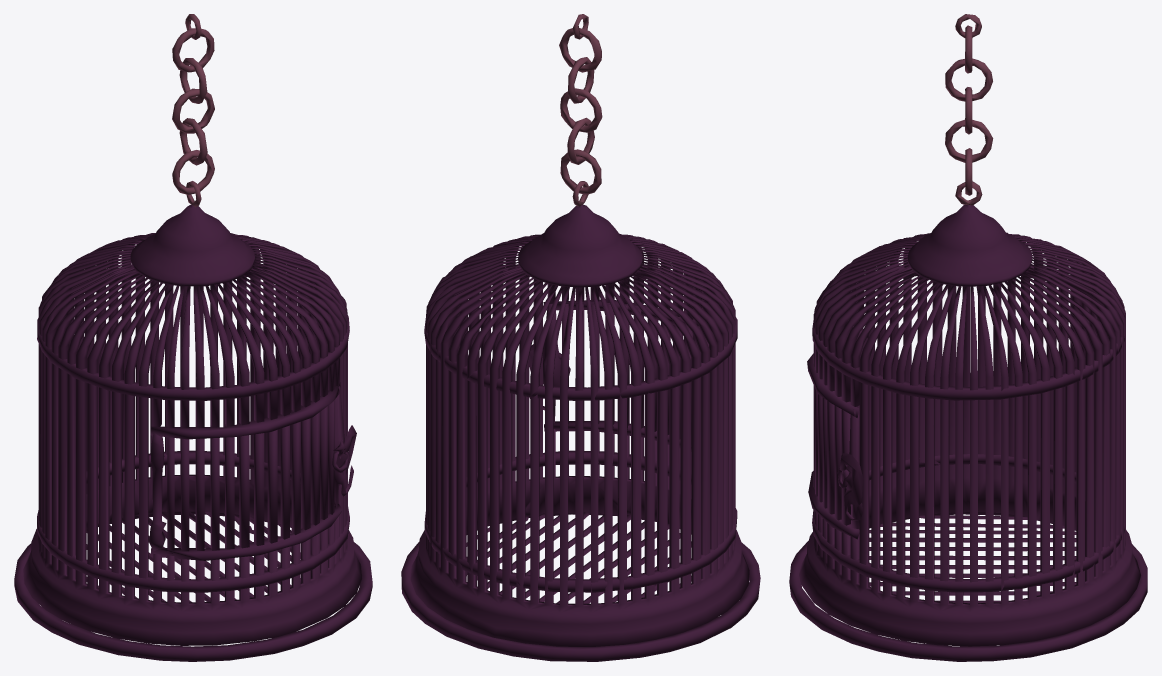
File: birdcage2.fbx
The picture shows the model from 3 angles, left to right: view 1: azimuth 30°, elevation 25°; view 2: azimuth 150°, elevation 25°; view 3: azimuth 270°, elevation 25°; orthographic projection.
Visible parts, largest first — view 1: BirdcageBase, Birdcagedoor, Birdcagechain; view 2: BirdcageBase, Birdcagedoor, Birdcagechain; view 3: BirdcageBase, Birdcagedoor, Birdcagechain.
Part boxes in pixels (x1=…): BirdcageBase: x1=14, y1=204, x2=372, y2=661; Birdcagedoor: x1=149, y1=382, x2=356, y2=560; Birdcagechain: x1=172, y1=14, x2=214, y2=207; BirdcageBase: x1=401, y1=204, x2=760, y2=661; Birdcagedoor: x1=529, y1=299, x2=708, y2=451; Birdcagechain: x1=559, y1=14, x2=602, y2=206; BirdcageBase: x1=789, y1=204, x2=1147, y2=661; Birdcagedoor: x1=807, y1=321, x2=867, y2=539; Birdcagechain: x1=945, y1=14, x2=993, y2=205.
Size of the model in its own units: 312 by 548 by 311.
